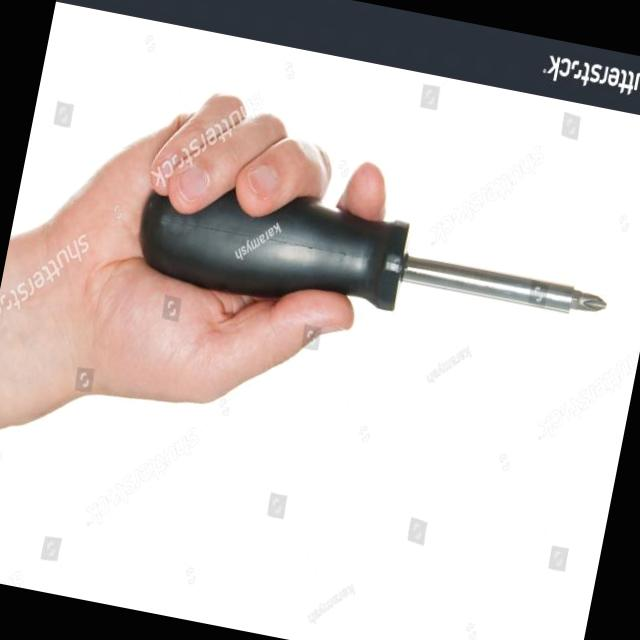screwdriver: (140, 191, 605, 313)
